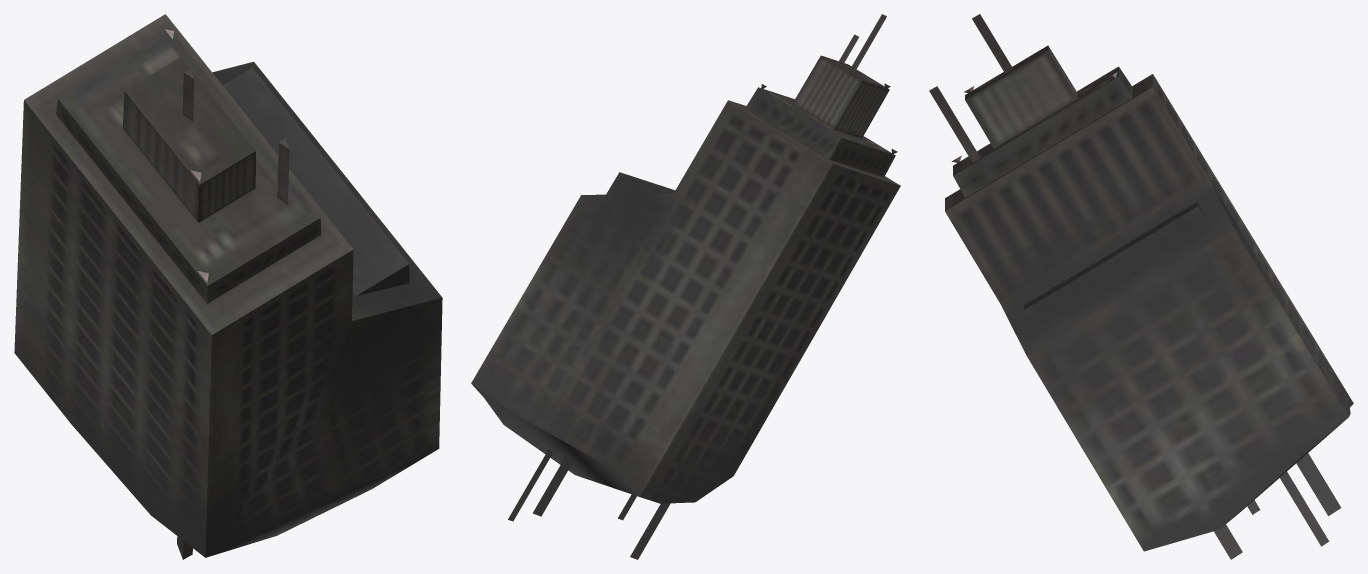
The model's file is skyBuildingAAB_pos_grp (7).fbx.
The picture shows the model from 3 angles, left to right: view 1: azimuth 30°, elevation 25°; view 2: azimuth 150°, elevation 25°; view 3: azimuth 270°, elevation 25°; orthographic projection. The views are drawn at different scales.
Parts seen in each view (by area): view 1: skyBuildingAAB_geo; view 2: skyBuildingAAB_geo; view 3: skyBuildingAAB_geo.
Boxes of the visible parts, x1,y1,x2,y2 form: skyBuildingAAB_geo: (14, 14, 442, 559); skyBuildingAAB_geo: (471, 14, 900, 559); skyBuildingAAB_geo: (929, 14, 1353, 559).
Bounding box in the file's own units: 4.53 × 6.93 × 5.49.
Materials: 1 (1 with a texture image).
